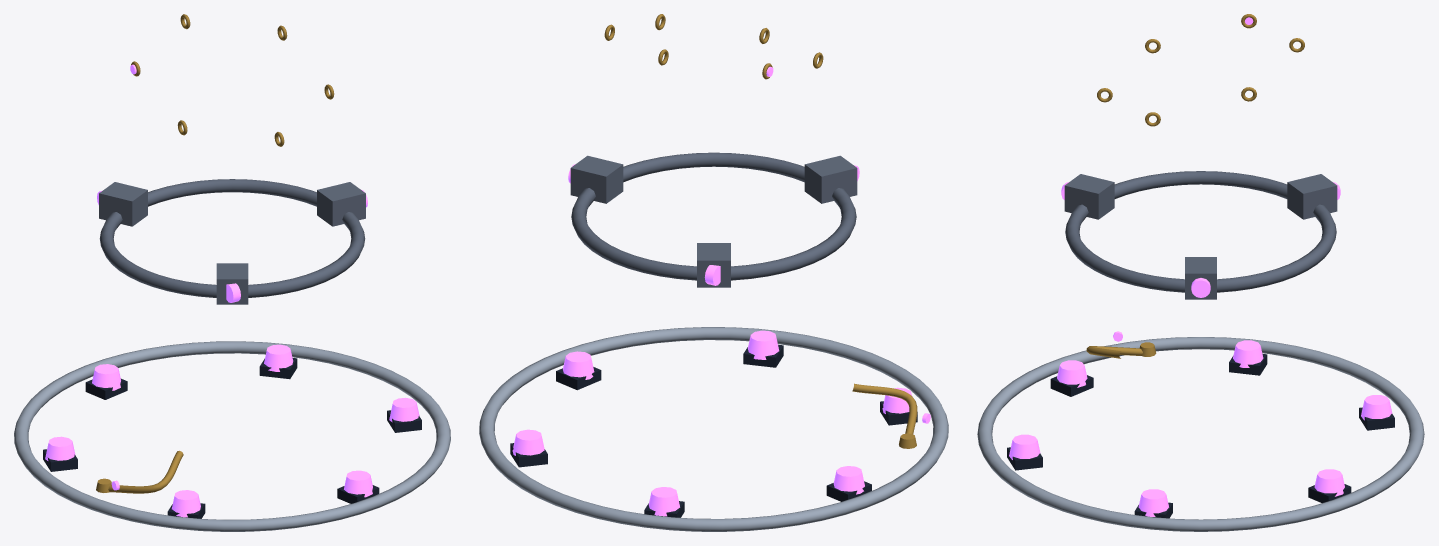
The model's file is tower_singularity_range_s9.glb.
3 renders of one model, left to right at view 1: azimuth 30°, elevation 25°; view 2: azimuth 150°, elevation 25°; view 3: azimuth 270°, elevation 25°, orthographic. The views are drawn at different scales.
Visible parts, largest first — view 1: singularity_projector_ring, singularity_collar_ring, singularity_collar_pod0, singularity_collar_pod1, singularity_collar_pod2, singularity_projector_conduit, singularity_projector_node2, singularity_projector_node5, singularity_projector_node4, singularity_projector_node1, singularity_projector_node3, singularity_projector_node0; view 2: singularity_projector_ring, singularity_collar_ring, singularity_collar_pod1, singularity_collar_pod2, singularity_collar_pod0, singularity_projector_conduit, singularity_projector_node4, singularity_projector_node1, singularity_projector_node3, singularity_projector_node0, singularity_projector_node2, singularity_projector_shoe3; view 3: singularity_projector_ring, singularity_collar_ring, singularity_collar_pod0, singularity_collar_pod2, singularity_collar_pod1, singularity_projector_node2, singularity_projector_node3, singularity_projector_node5, singularity_projector_node0, singularity_projector_node4, singularity_projector_node1, singularity_projector_conduit.
Boxes of the visible parts, x1=… form: singularity_projector_ring: x1=14, y1=341, x2=450, y2=531; singularity_collar_ring: x1=99, y1=179, x2=365, y2=297; singularity_collar_pod0: x1=99, y1=182, x2=147, y2=226; singularity_collar_pod1: x1=317, y1=182, x2=365, y2=226; singularity_collar_pod2: x1=216, y1=263, x2=248, y2=304; singularity_projector_conduit: x1=108, y1=450, x2=183, y2=493; singularity_projector_node2: x1=264, y1=344, x2=293, y2=371; singularity_projector_node5: x1=171, y1=490, x2=200, y2=517; singularity_projector_node4: x1=344, y1=470, x2=372, y2=497; singularity_projector_node1: x1=92, y1=364, x2=120, y2=390; singularity_projector_node3: x1=389, y1=397, x2=419, y2=422; singularity_projector_node0: x1=45, y1=436, x2=75, y2=460; singularity_projector_ring: x1=479, y1=327, x2=948, y2=531; singularity_collar_ring: x1=571, y1=152, x2=856, y2=280; singularity_collar_pod1: x1=570, y1=155, x2=623, y2=203; singularity_collar_pod2: x1=804, y1=155, x2=857, y2=203; singularity_collar_pod0: x1=697, y1=243, x2=730, y2=287; singularity_projector_conduit: x1=852, y1=383, x2=917, y2=434; singularity_projector_node4: x1=747, y1=330, x2=779, y2=359; singularity_projector_node1: x1=648, y1=487, x2=679, y2=516; singularity_projector_node3: x1=563, y1=351, x2=594, y2=379; singularity_projector_node0: x1=833, y1=466, x2=864, y2=494; singularity_projector_node2: x1=512, y1=429, x2=544, y2=455; singularity_projector_shoe3: x1=556, y1=367, x2=601, y2=390; singularity_projector_ring: x1=977, y1=337, x2=1424, y2=531; singularity_collar_ring: x1=1065, y1=171, x2=1336, y2=292; singularity_collar_pod0: x1=1287, y1=174, x2=1337, y2=219; singularity_collar_pod2: x1=1064, y1=174, x2=1114, y2=219; singularity_collar_pod1: x1=1185, y1=257, x2=1216, y2=299; singularity_projector_node2: x1=1314, y1=469, x2=1344, y2=496; singularity_projector_node3: x1=1138, y1=489, x2=1168, y2=516; singularity_projector_node5: x1=1057, y1=360, x2=1087, y2=387; singularity_projector_node0: x1=1233, y1=340, x2=1263, y2=367; singularity_projector_node4: x1=1009, y1=434, x2=1040, y2=459; singularity_projector_node1: x1=1361, y1=395, x2=1392, y2=420; singularity_projector_conduit: x1=1086, y1=346, x2=1142, y2=358.
Size of the model in its own units: 2.5 by 2.5 by 2.5.
